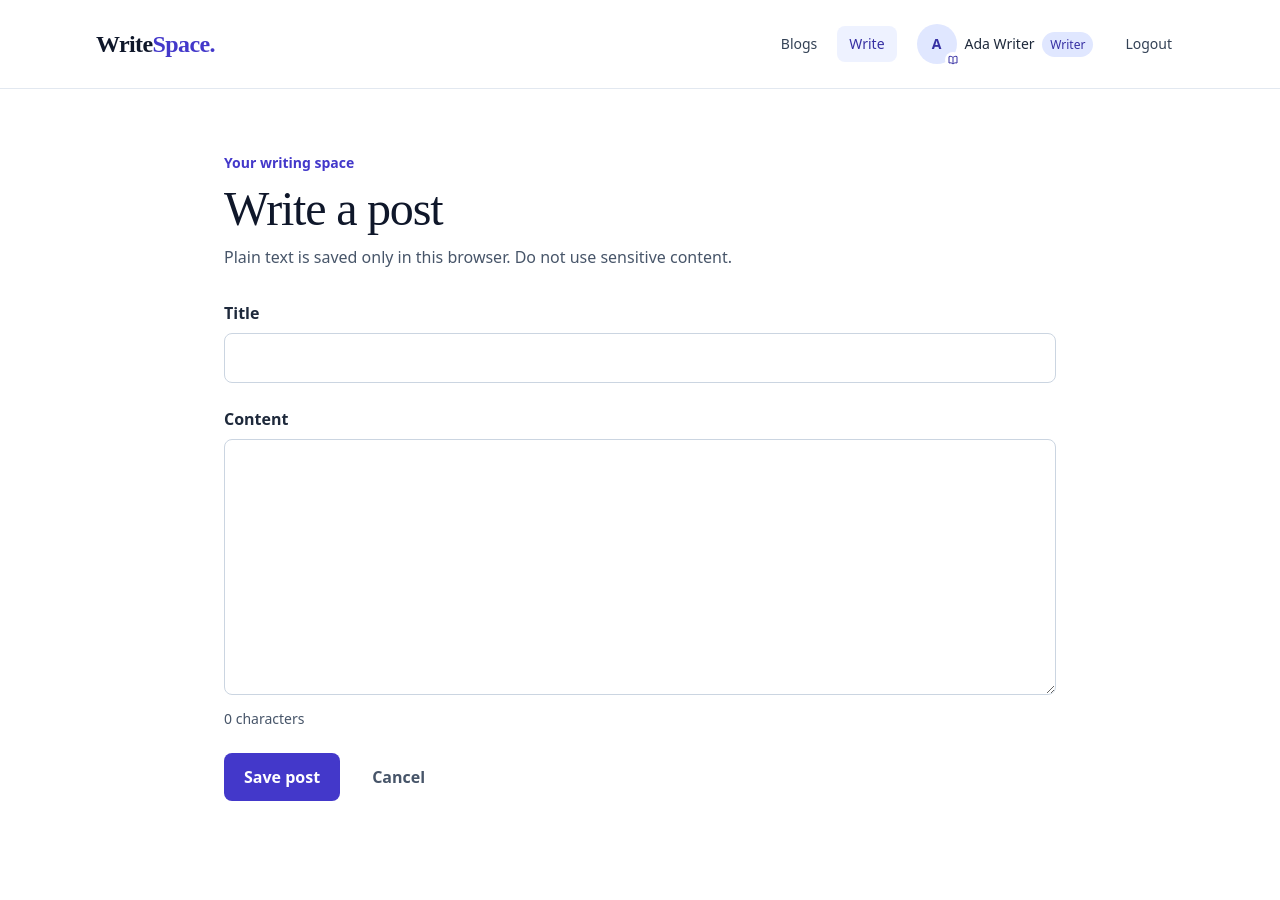
Test: post authoring › validates required fields, counts content and saves a UUID, timestamp and author
Step 1. Click the button "Save post" → (282, 777), box [224,753,340,801]
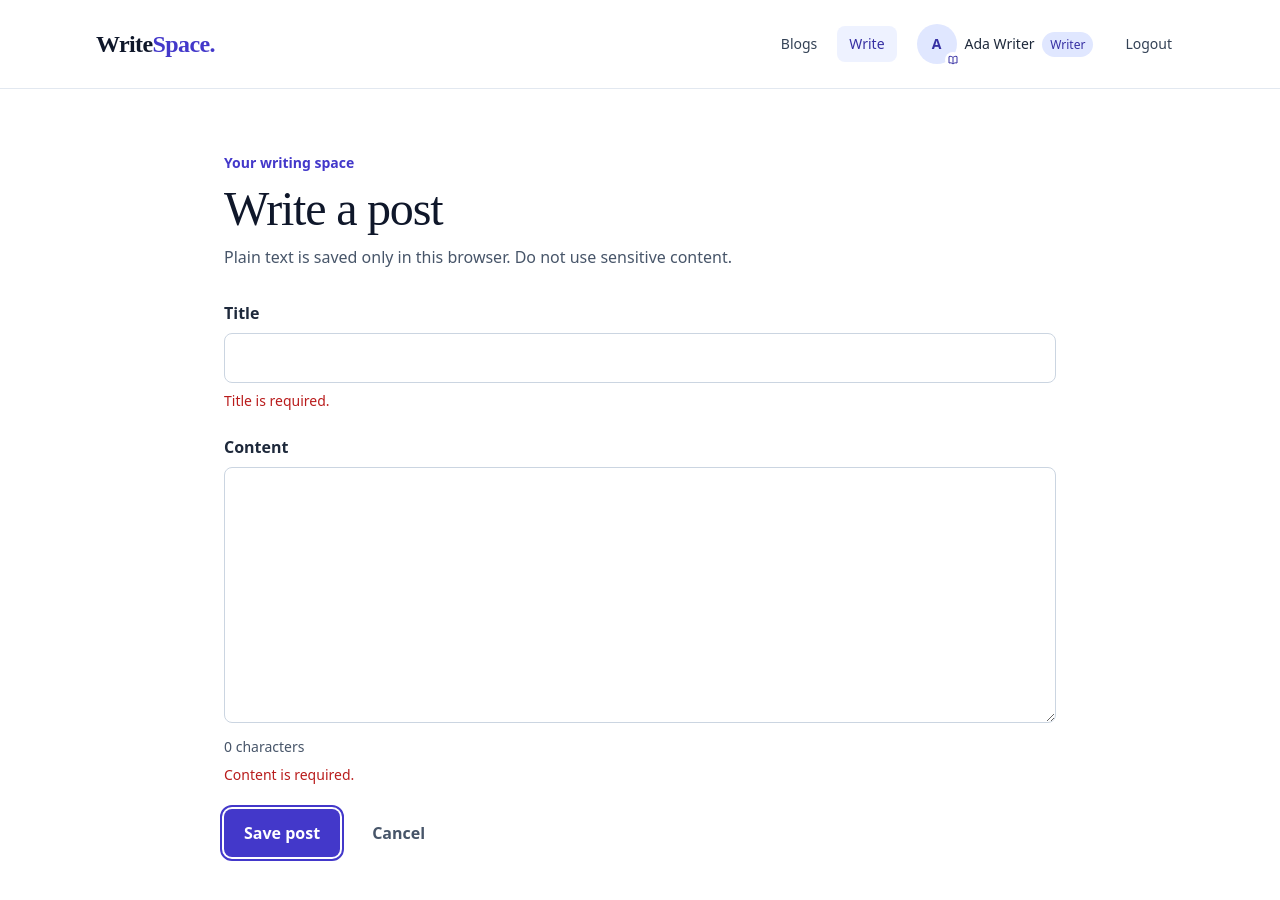
Now the text "Title is required." is shown, box [224,391,330,410]
Now the text "Content is required." is shown, box [224,765,354,784]
Step 2. Type "My note" into the field labelled "Title" → (640, 358), box [224,333,1056,383]
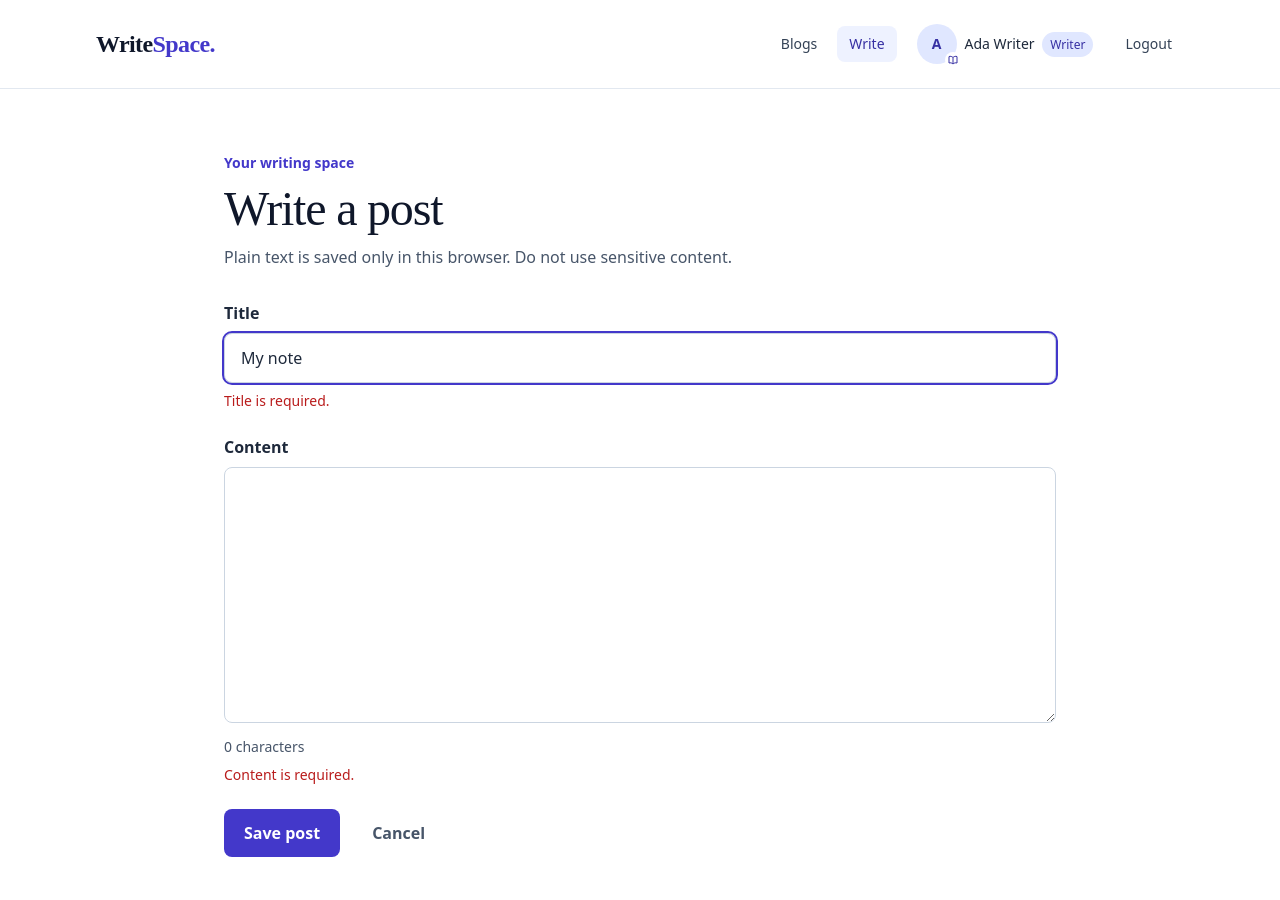
Step 3. Type "Hello world" into the text box labelled "Content" → (640, 595), box [224,467,1056,723]
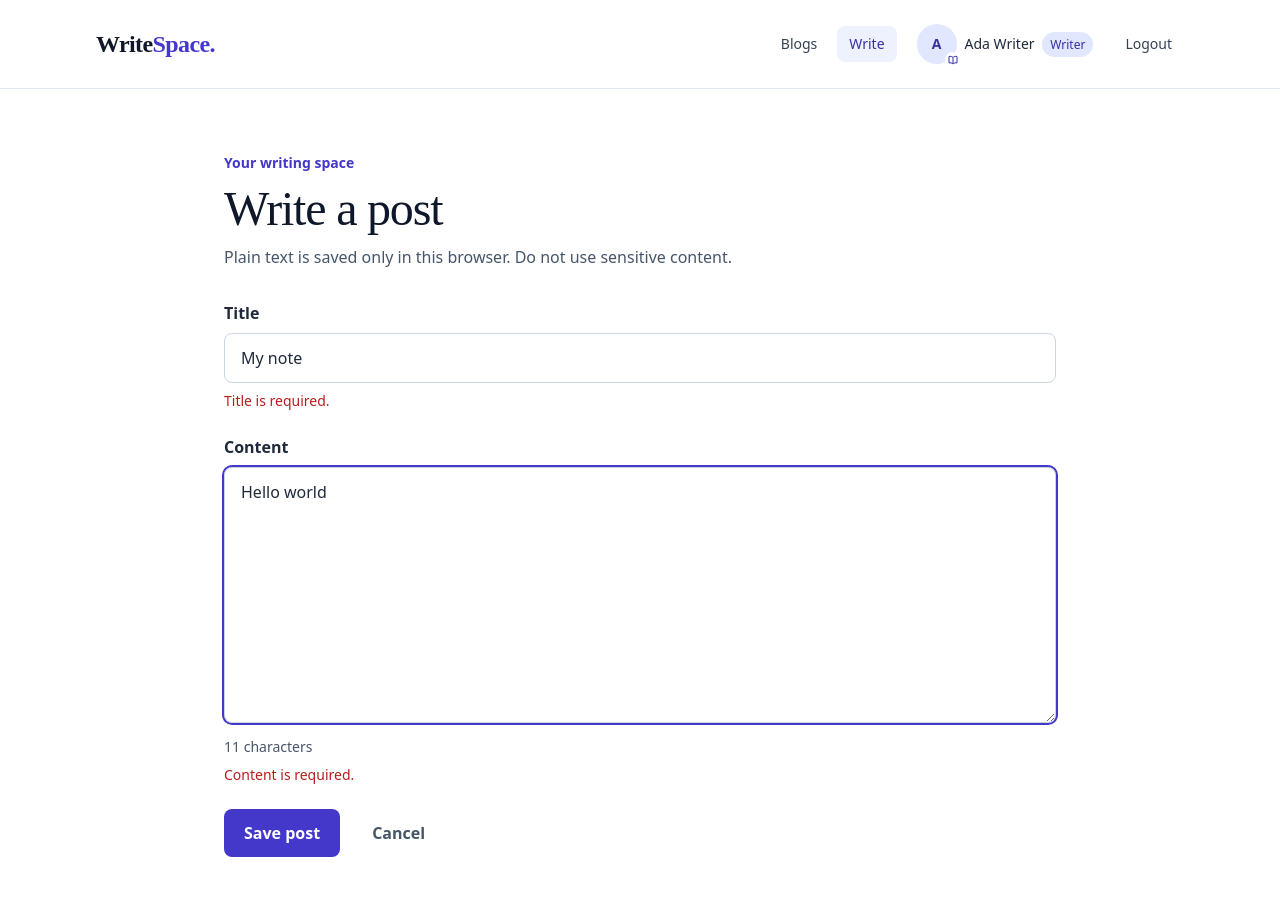
Now the text "11 characters" is shown, box [224,737,312,756]
Step 4. Click the button "Save post" → (282, 833), box [224,809,340,857]
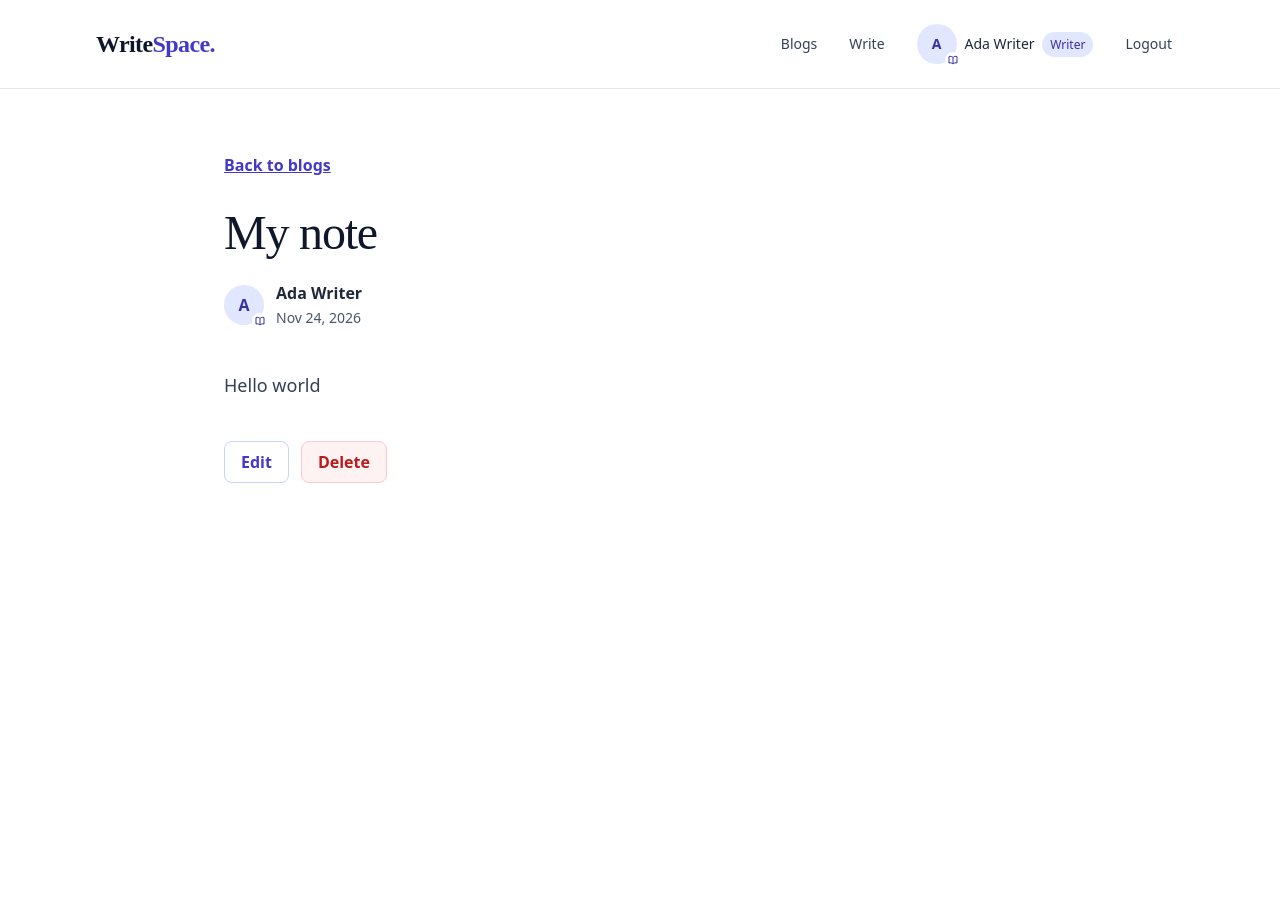
Now the heading "My note" is shown, box [224,206,377,259]
